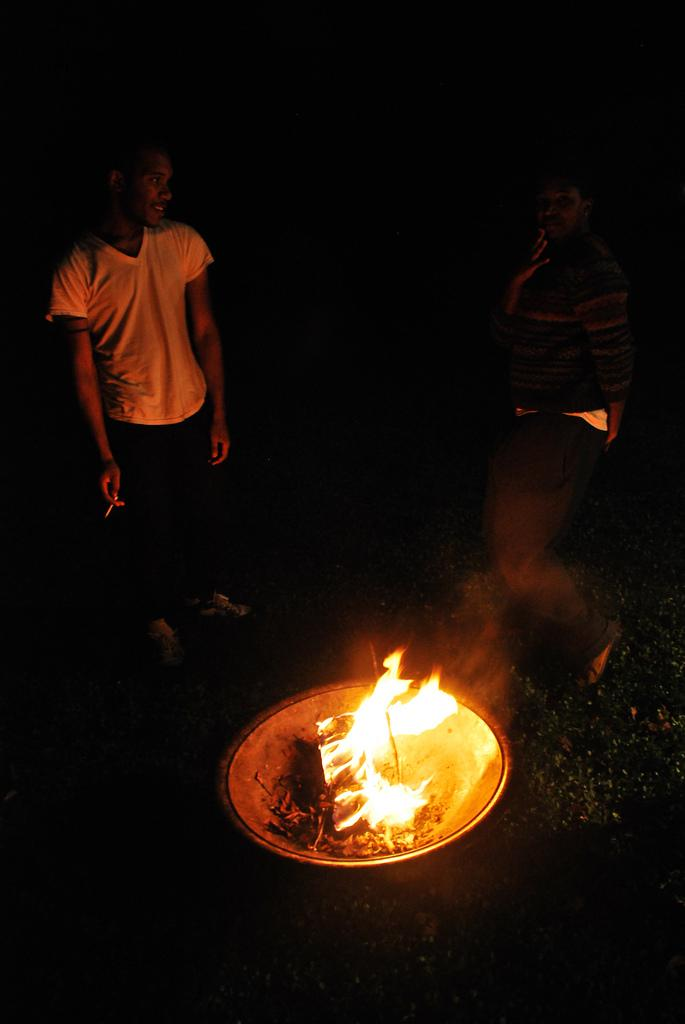fire: (322, 680, 447, 818)
